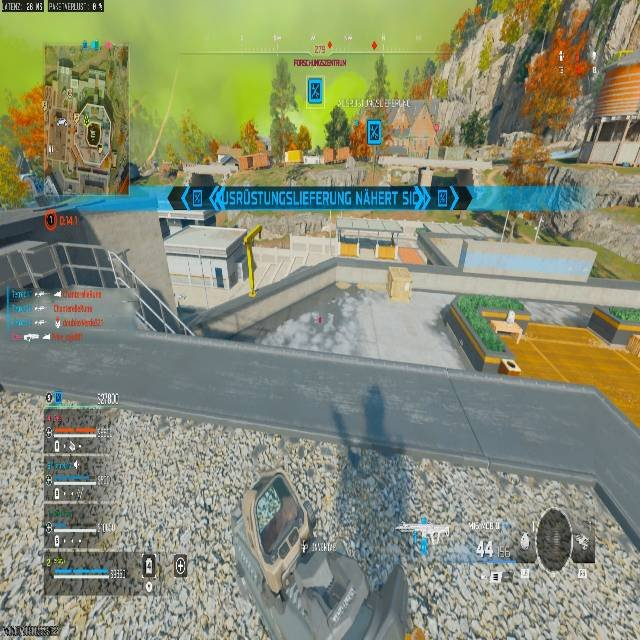player: (328, 105, 351, 152)
